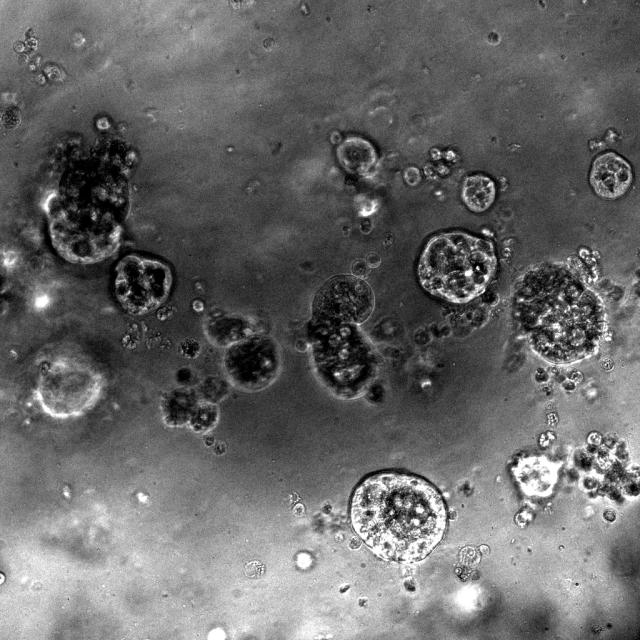organoid: (504, 245, 623, 395), (507, 404, 639, 528), (46, 113, 139, 263), (414, 227, 516, 344), (348, 469, 448, 564), (307, 275, 376, 398), (204, 313, 280, 391), (331, 131, 382, 233), (162, 367, 229, 433), (114, 253, 173, 316), (12, 28, 66, 85), (402, 147, 461, 187), (589, 151, 632, 200), (461, 171, 496, 213), (454, 544, 490, 581), (589, 127, 621, 151), (352, 252, 381, 278), (204, 434, 227, 455), (0, 106, 21, 129), (179, 338, 200, 359), (156, 306, 176, 321), (191, 297, 205, 313), (348, 535, 362, 550), (601, 356, 614, 372), (602, 507, 616, 521), (296, 339, 308, 351), (448, 508, 458, 520)
